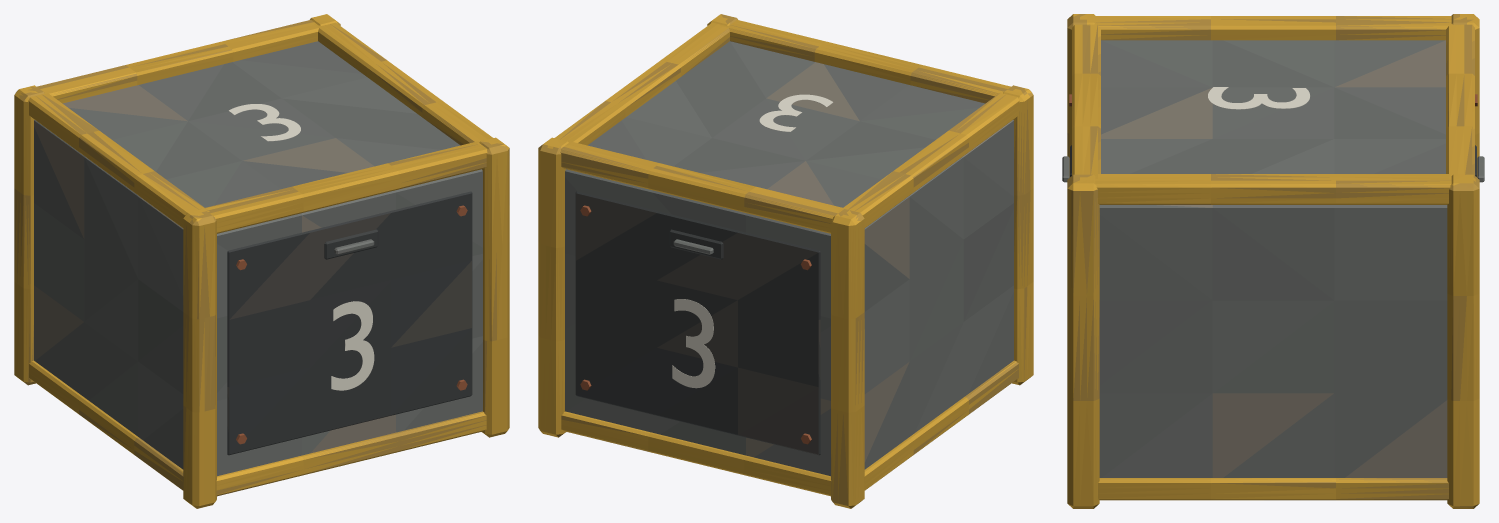
Rendered from crate.glb.
3 renders of one model, left to right at view 1: azimuth 30°, elevation 25°; view 2: azimuth 150°, elevation 25°; view 3: azimuth 270°, elevation 25°, orthographic. The views are drawn at different scales.
Visible parts, largest first — view 1: Solid numbered crate, Recessed cargo side panel, Yellow edge protector, Top perimeter reinforcement.005, Yellow edge protector.002, Top perimeter reinforcement.007, Top perimeter reinforcement.004, Yellow edge protector.001, Top perimeter reinforcement.001, Top perimeter reinforcement.006, Top perimeter reinforcement, Stencil_3 (+2 smaller); view 2: Solid numbered crate, Recessed cargo side panel.001, Yellow edge protector.001, Top perimeter reinforcement.007, Yellow edge protector.003, Top perimeter reinforcement.005, Top perimeter reinforcement.004, Yellow edge protector, Top perimeter reinforcement.003, Top perimeter reinforcement.006, Top perimeter reinforcement, Stencil_3.001 (+2 smaller); view 3: Solid numbered crate, Top perimeter reinforcement.006, Yellow edge protector.002, Yellow edge protector.003, Top perimeter reinforcement.004, Top perimeter reinforcement.002, Top perimeter reinforcement.005, Top perimeter reinforcement.007, Stencil_3.002, Yellow edge protector, Yellow edge protector.001.
Boxes of the visible parts, bbox=[...] form: Solid numbered crate: bbox=[34, 41, 482, 476]; Recessed cargo side panel: bbox=[227, 191, 472, 455]; Yellow edge protector: bbox=[183, 209, 216, 508]; Top perimeter reinforcement.005: bbox=[197, 140, 487, 233]; Yellow edge protector.002: bbox=[479, 137, 509, 437]; Top perimeter reinforcement.007: bbox=[37, 20, 327, 103]; Top perimeter reinforcement.004: bbox=[28, 93, 209, 227]; Yellow edge protector.001: bbox=[14, 85, 44, 385]; Top perimeter reinforcement.001: bbox=[216, 411, 486, 496]; Top perimeter reinforcement.006: bbox=[314, 22, 493, 145]; Top perimeter reinforcement: bbox=[29, 360, 183, 490]; Stencil_3: bbox=[331, 301, 374, 390]; Solid numbered crate: bbox=[565, 41, 1013, 476]; Recessed cargo side panel.001: bbox=[575, 191, 820, 455]; Yellow edge protector.001: bbox=[831, 209, 864, 508]; Top perimeter reinforcement.007: bbox=[560, 140, 851, 233]; Yellow edge protector.003: bbox=[538, 137, 568, 437]; Top perimeter reinforcement.005: bbox=[720, 20, 1010, 103]; Top perimeter reinforcement.004: bbox=[838, 92, 1019, 227]; Yellow edge protector: bbox=[1003, 85, 1033, 385]; Top perimeter reinforcement.003: bbox=[561, 411, 831, 496]; Top perimeter reinforcement.006: bbox=[554, 22, 731, 145]; Top perimeter reinforcement: bbox=[864, 360, 1018, 490]; Stencil_3.001: bbox=[672, 299, 715, 388]; Solid numbered crate: bbox=[1099, 40, 1447, 477]; Top perimeter reinforcement.006: bbox=[1095, 174, 1451, 204]; Yellow edge protector.002: bbox=[1067, 174, 1099, 508]; Yellow edge protector.003: bbox=[1447, 174, 1479, 508]; Top perimeter reinforcement.004: bbox=[1087, 16, 1460, 40]; Top perimeter reinforcement.002: bbox=[1098, 478, 1448, 500]; Top perimeter reinforcement.005: bbox=[1072, 21, 1100, 178]; Top perimeter reinforcement.007: bbox=[1446, 21, 1474, 178]; Stencil_3.002: bbox=[1208, 87, 1309, 109]; Yellow edge protector: bbox=[1067, 14, 1095, 177]; Yellow edge protector.001: bbox=[1451, 14, 1479, 177].
Bounding box in the file's own units: 1.41 × 1.23 × 1.44.
